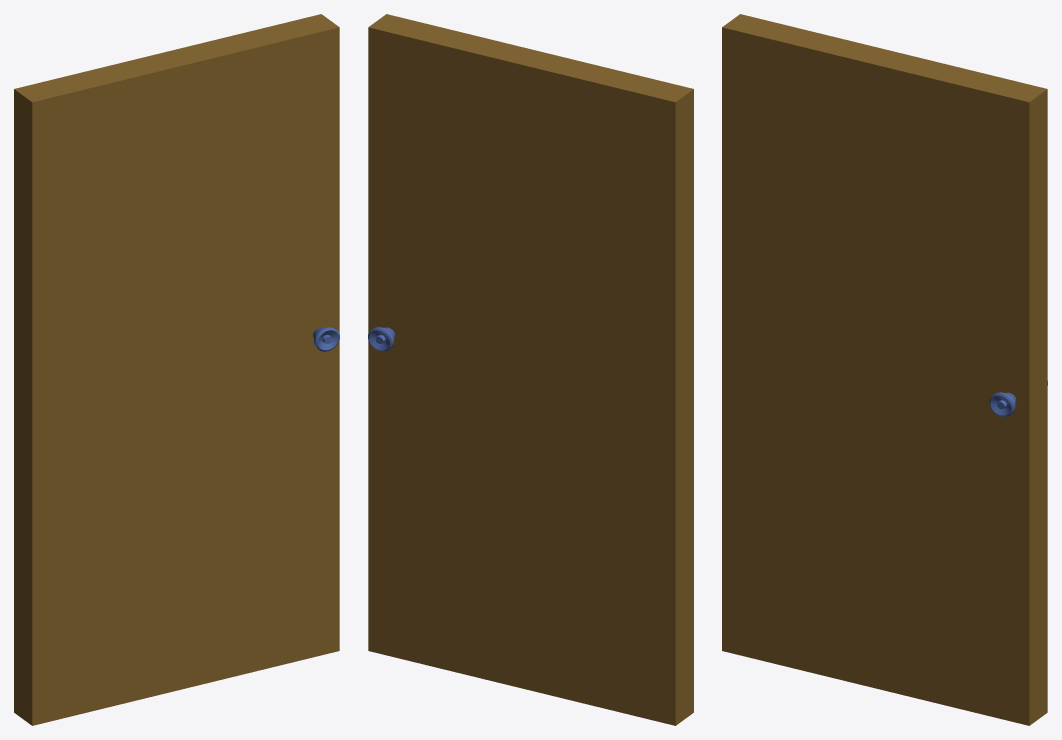
Rendered from Retro Door.fbx.
The picture shows the model from 3 angles, left to right: view 1: azimuth 30°, elevation 25°; view 2: azimuth 150°, elevation 25°; view 3: azimuth 330°, elevation 25°; orthographic projection.
Parts seen in each view (by area): view 1: door; view 2: door; view 3: door.
Part boxes in pixels (x1,y1,x2,y2): door: (14, 14, 339, 725); door: (368, 14, 693, 725); door: (722, 14, 1047, 725).
Bounding box in the file's own units: 114 × 221 × 22.92.
